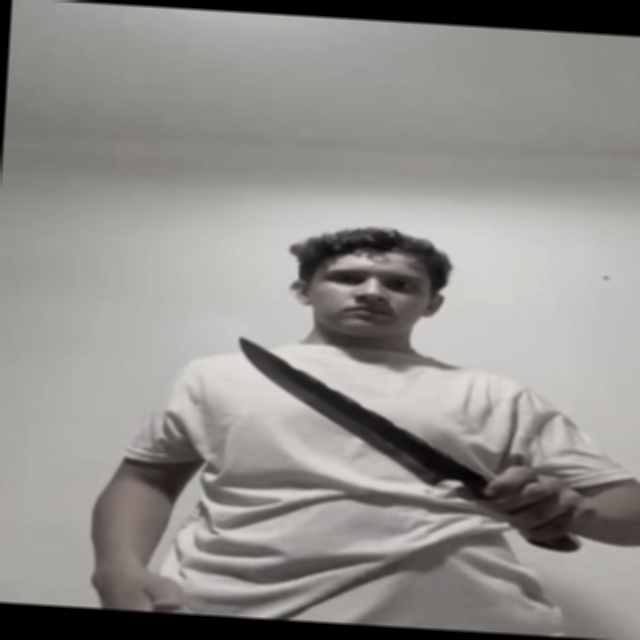Sharp-Object: (225, 335, 464, 483)
